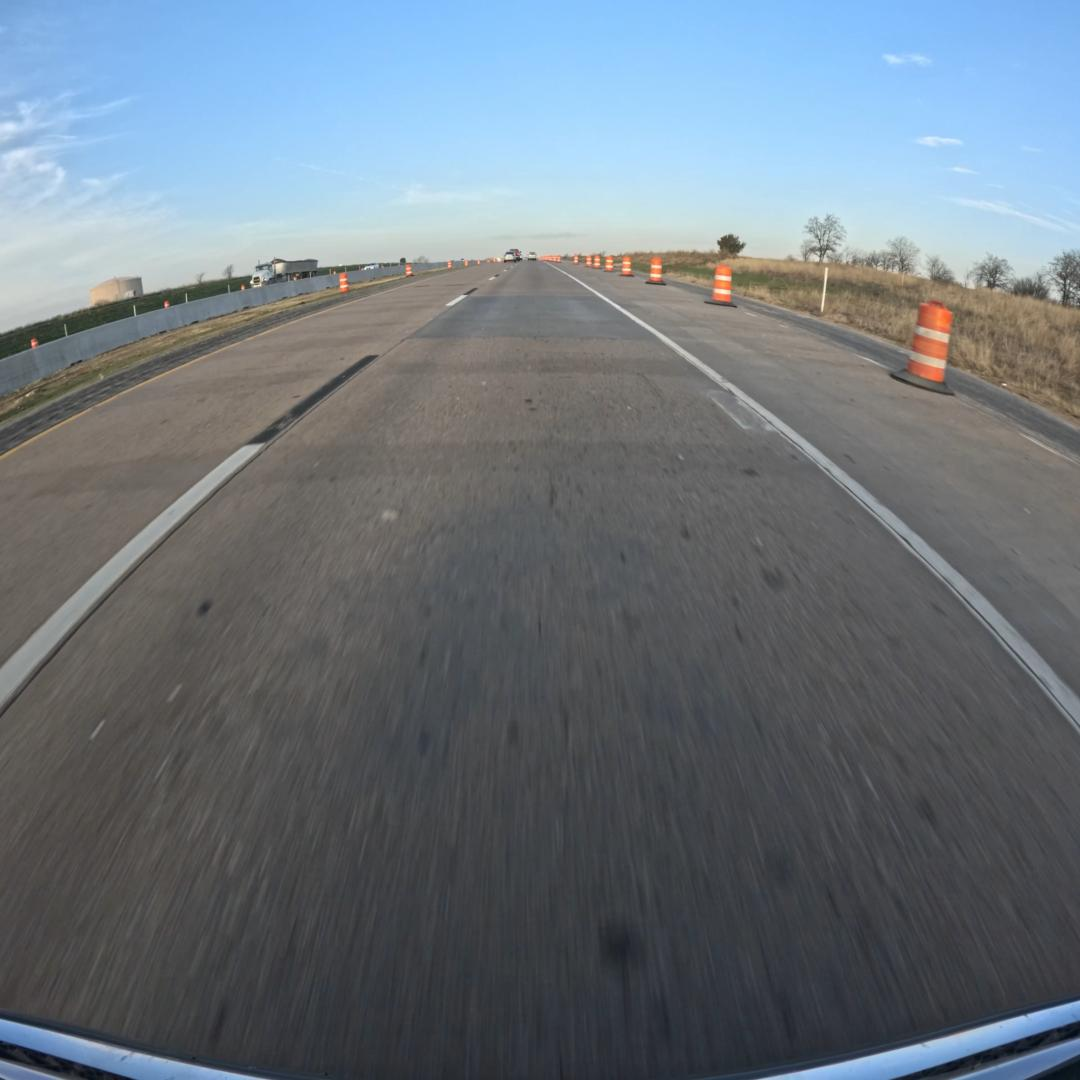lane0: (0, 266, 1080, 1077)
lane1: (0, 267, 502, 712)
